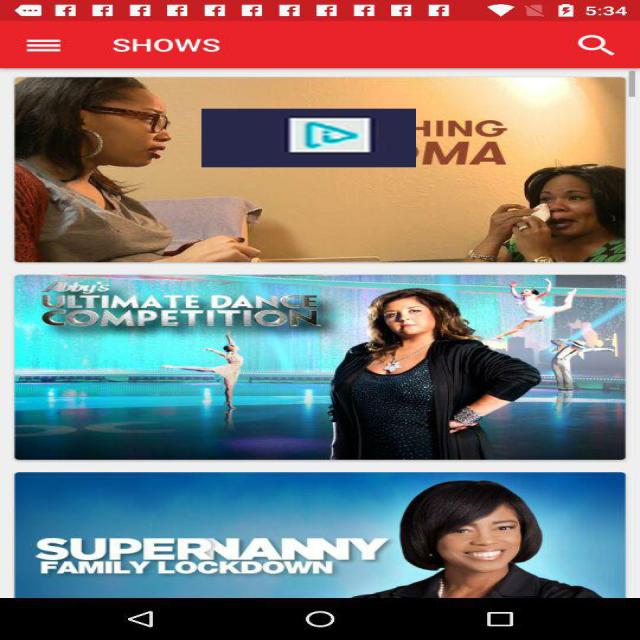sneaking: (201, 109, 416, 167)
